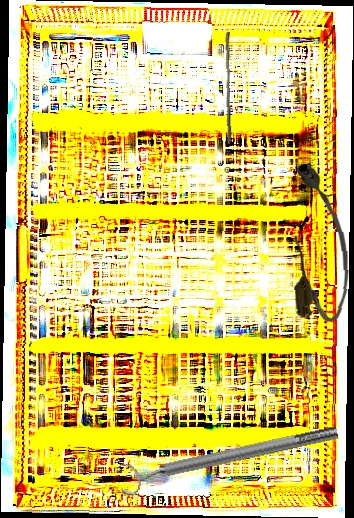Cannula: (287, 161, 353, 323)
Fixation Ring: (115, 416, 342, 498)
Pusher: (221, 32, 236, 144)
